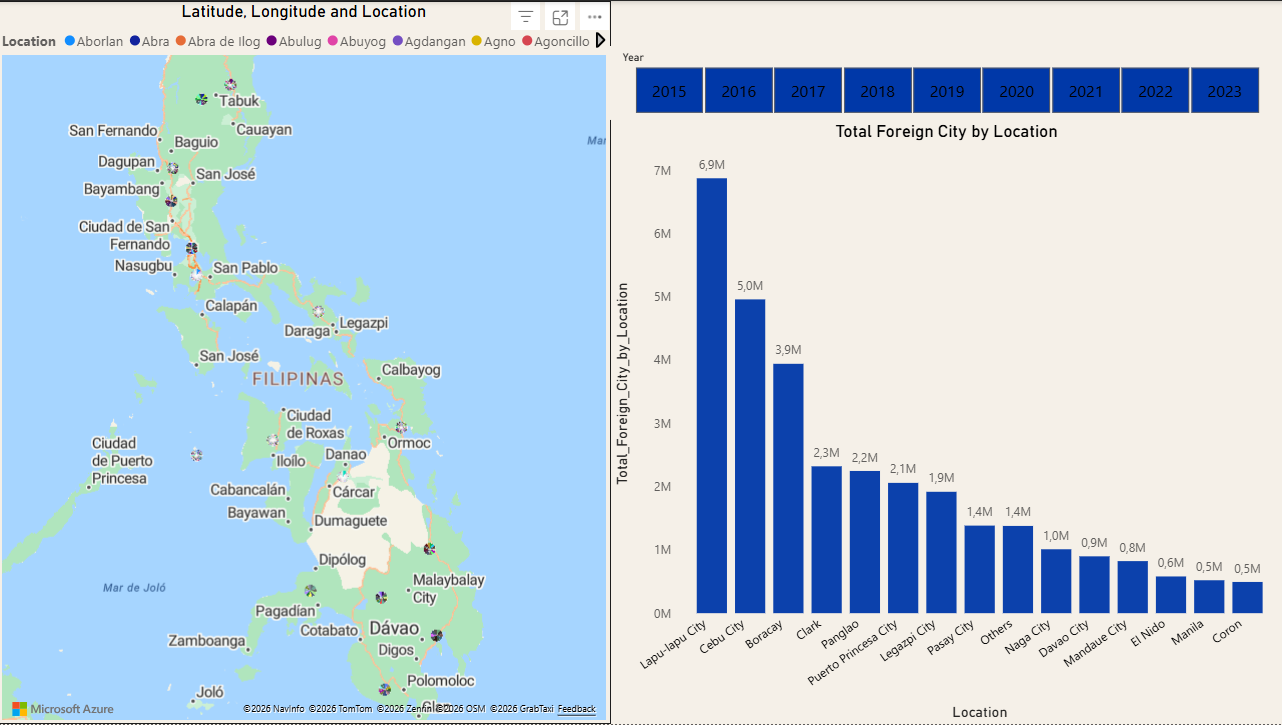

What the dashboard file says about the page in this screenshot:
{"tool":"powerbi","page":{"name":"Página 2","canvas":[1280,720],"ordinal":5},"visuals":[{"type":"clusteredColumnChart","fields":{"Y":["Measures (2).Total_Foreign_City_by_Location"],"Category":["Sheet1.Location"]},"box":[596.7,118.3,683.3,601.7],"z":0},{"type":"azureMap","fields":{"Y":["Sheet1.Latitude"],"X":["Sheet1.Longitude"],"Series":["Sheet1.Location"]},"box":[0,0,610.6,720.4],"z":1000},{"type":"slicer","fields":{"Values":["Sheet1.Year"]},"box":[610,45,670,73.3],"z":2000}]}

Visuals, with their boxes in screenshot pixels (x1, y1, x2, y2), scaled from the page's 1280x720 canvas onto the 1282x725 screenshot:
clusteredColumnChart - Measures (2).Total_Foreign_City_by_Location x Sheet1.Location: detection(598, 119, 1281, 724)
azureMap - Sheet1.Latitude x Sheet1.Longitude: detection(0, 0, 612, 724)
slicer - Sheet1.Year: detection(611, 45, 1281, 119)
